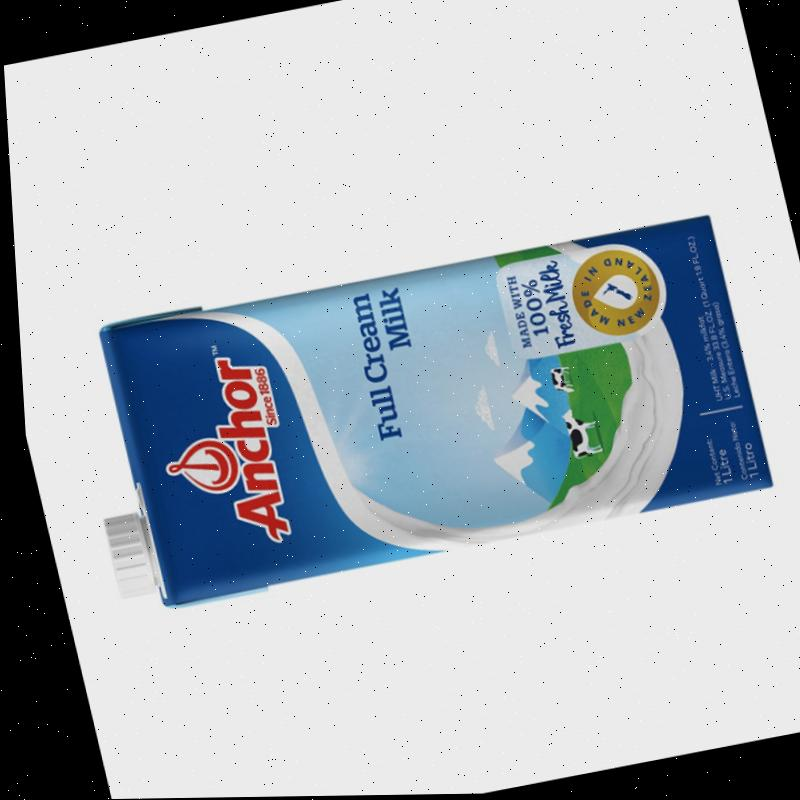uht carton: (99, 211, 777, 608)
